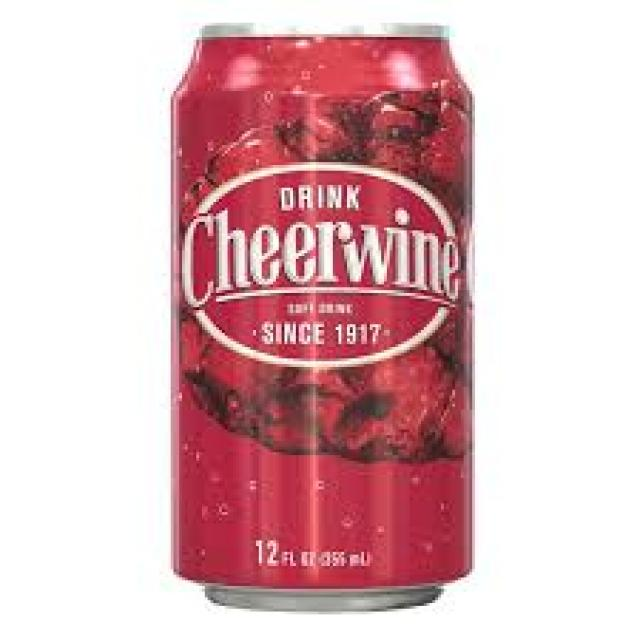Cans: (160, 3, 490, 620)
